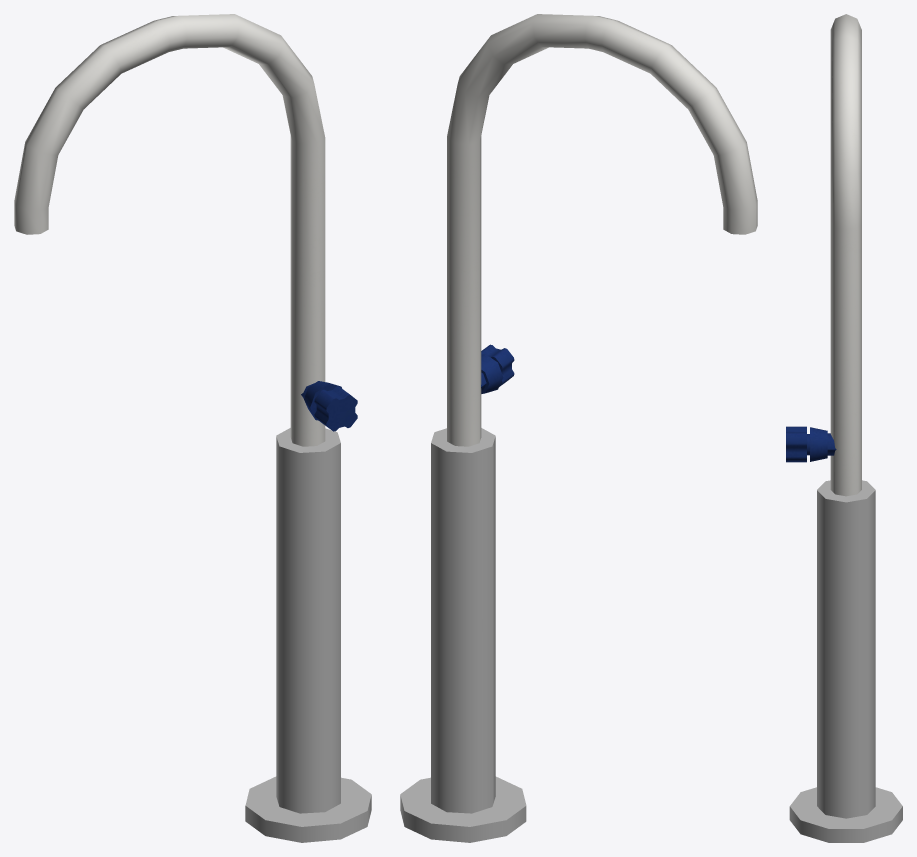
The model's file is SM_水龙头.FBX.
The picture shows the model from 3 angles, left to right: view 1: azimuth 30°, elevation 25°; view 2: azimuth 150°, elevation 25°; view 3: azimuth 270°, elevation 25°; orthographic projection. The views are drawn at different scales.
Parts seen in each view (by area): view 1: SM_水龙头, SM_水龙头_阀门; view 2: SM_水龙头; view 3: SM_水龙头, SM_水龙头_阀门.
Part boxes in pixels (bbox=[...]): SM_水龙头: bbox=[14, 14, 371, 842]; SM_水龙头_阀门: bbox=[314, 386, 357, 431]; SM_水龙头: bbox=[400, 14, 757, 842]; SM_水龙头: bbox=[789, 14, 902, 842]; SM_水龙头_阀门: bbox=[786, 426, 806, 462].
Bounding box in the file's own units: 0.2085 × 0.0696 × 0.4794.
